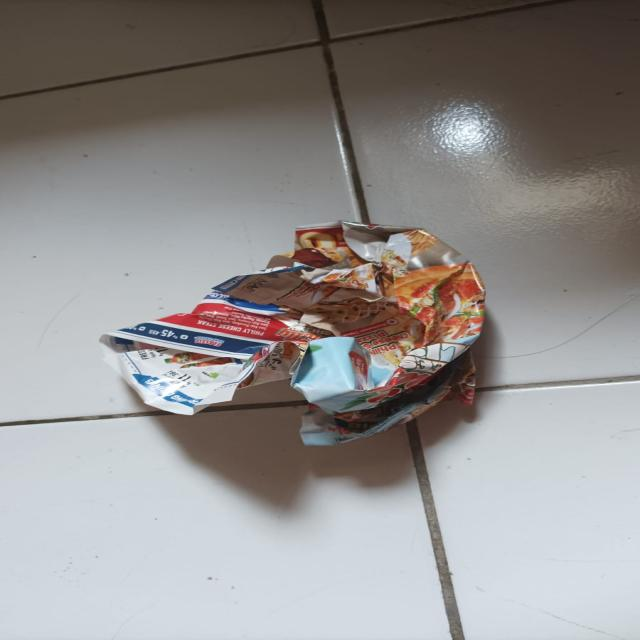Organik: (60, 220, 486, 443)
